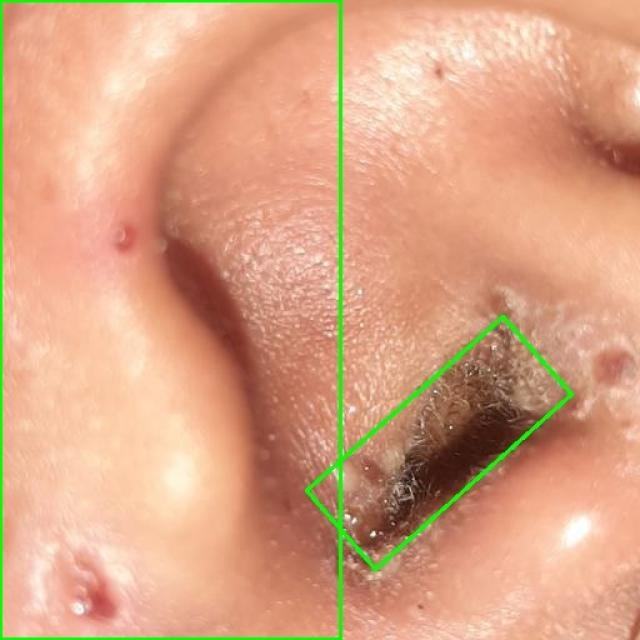Contact Dermatitis: (0, 0, 340, 639), (307, 317, 572, 569)
